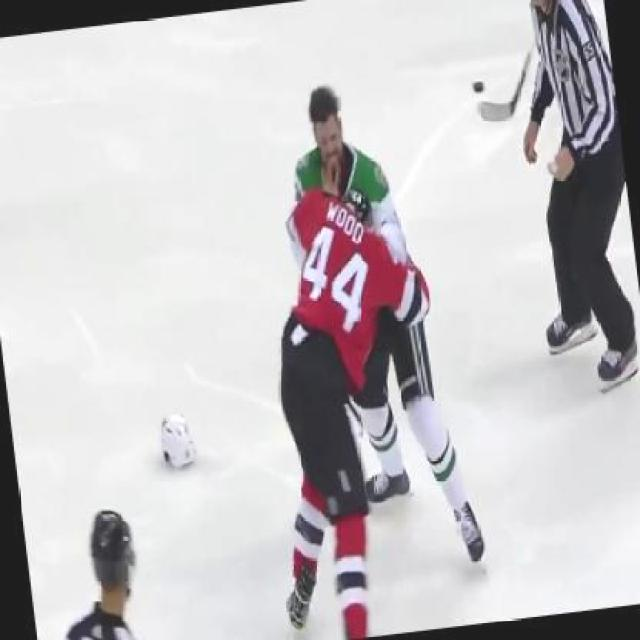fight: (252, 64, 485, 638)
non-fight: (491, 0, 638, 414)
